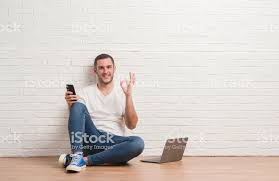white_male: (92, 54, 127, 87)
